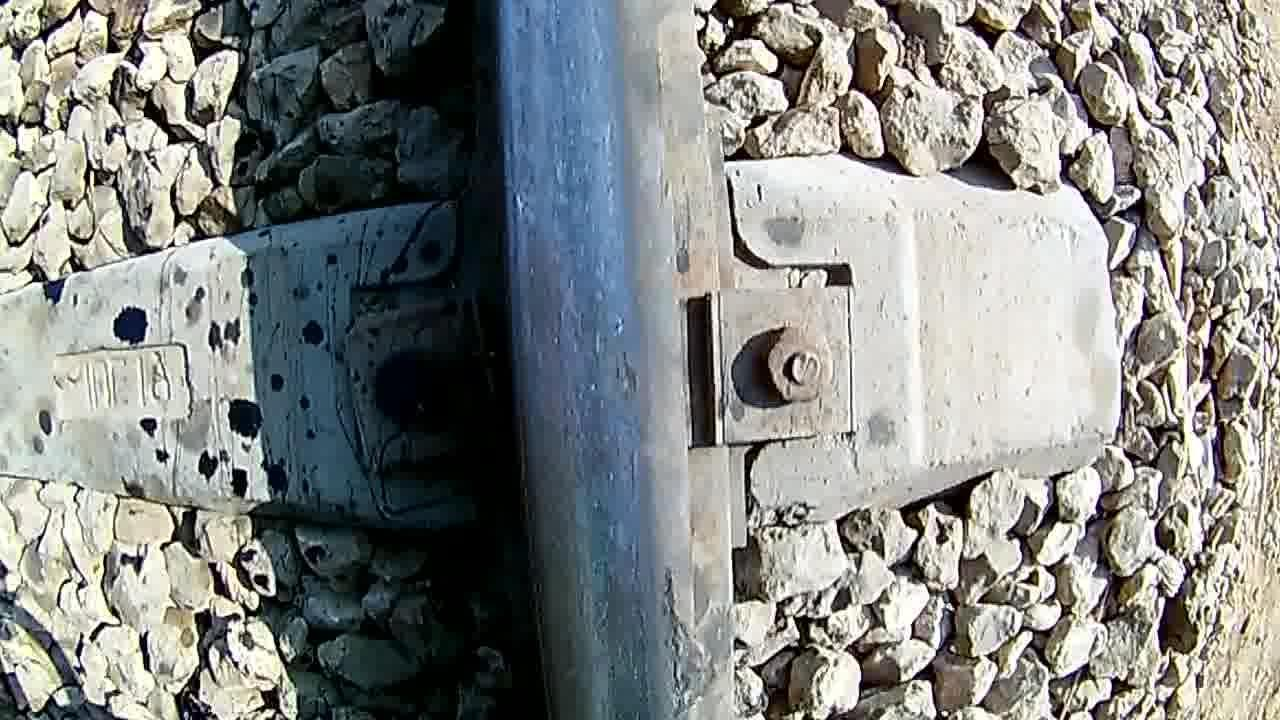crack: (494, 1, 671, 720)
